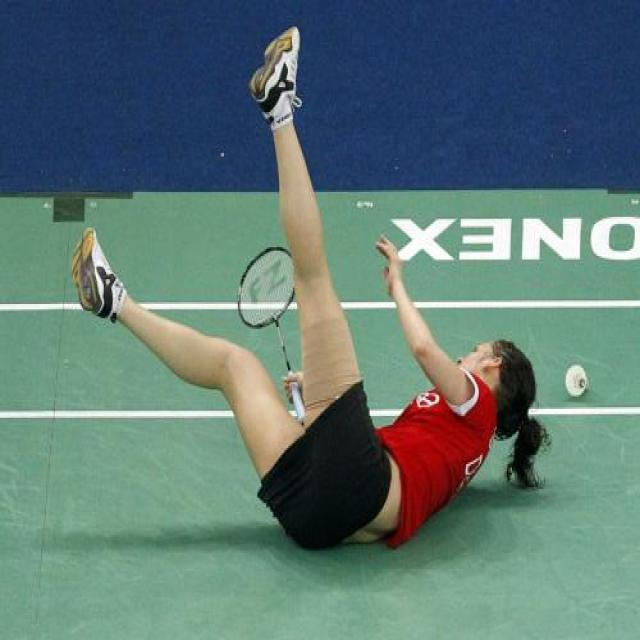down: (77, 19, 545, 564)
